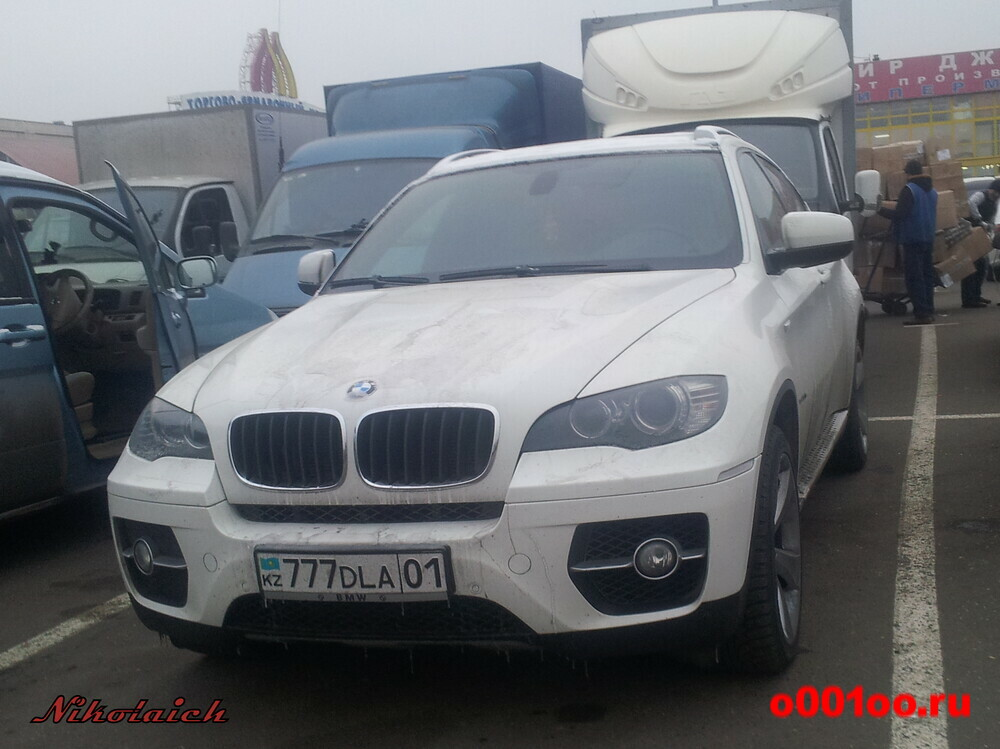license_plate: (256, 552, 448, 597)
